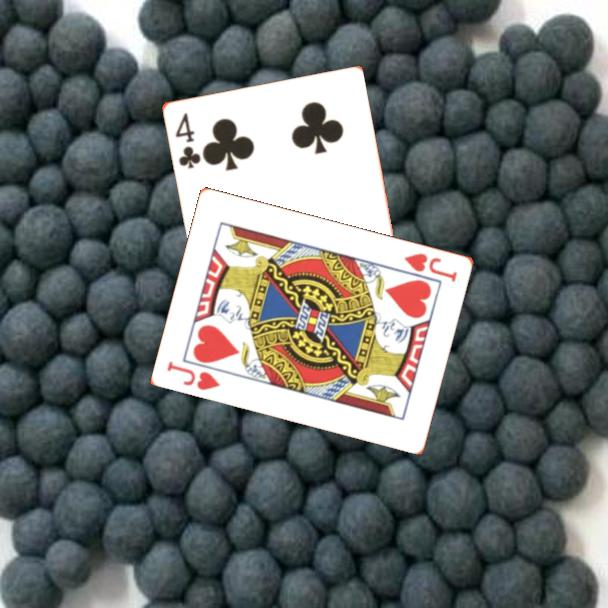c04: (171, 109, 203, 172)
h11: (401, 249, 460, 285), (164, 357, 223, 393)
